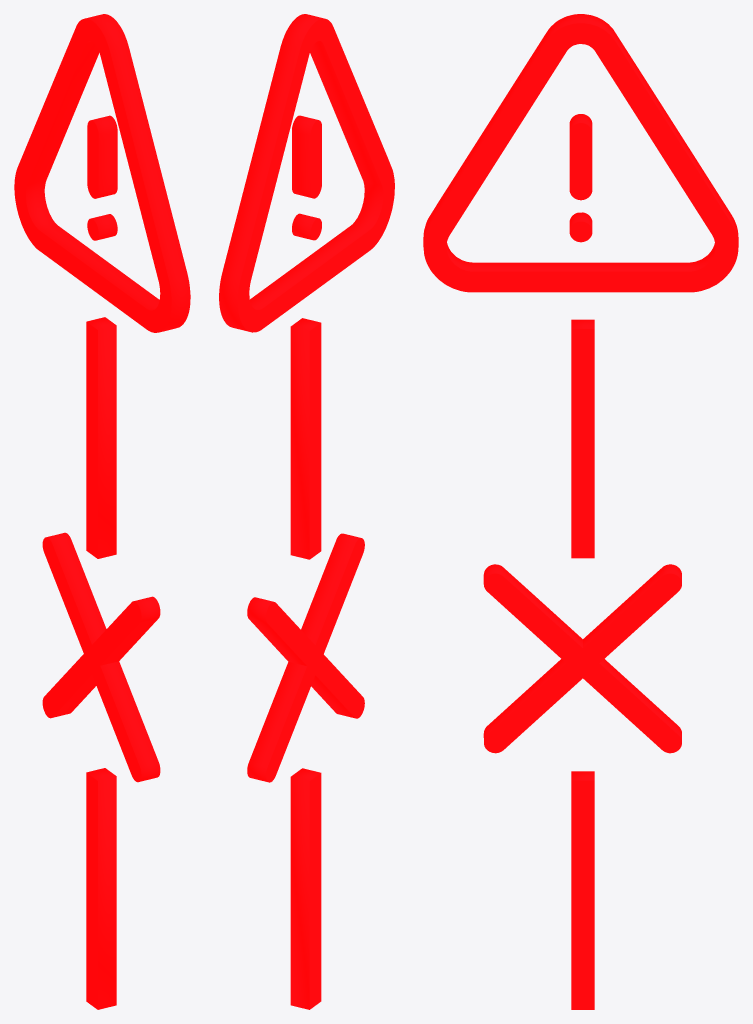
The model's file is status-not-connected-test.glb.
The picture shows the model from 3 angles, left to right: view 1: azimuth 30°, elevation 25°; view 2: azimuth 150°, elevation 25°; view 3: azimuth 270°, elevation 25°; orthographic projection.
Parts seen in each view (by area): view 1: Curve, Curve.004, Curve.003, Curve.005, Curve.006, Curve.001, Curve.002; view 2: Curve, Curve.003, Curve.004, Curve.006, Curve.005, Curve.001, Curve.002; view 3: Curve, Curve.005, Curve.006, Curve.003, Curve.004, Curve.001.
Part boxes in pixels (x1=…): Curve: x1=14, y1=14, x2=190, y2=332; Curve.004: x1=86, y1=768, x2=116, y2=1009; Curve.003: x1=86, y1=317, x2=116, y2=558; Curve.005: x1=42, y1=532, x2=160, y2=782; Curve.006: x1=42, y1=596, x2=160, y2=718; Curve.001: x1=87, y1=115, x2=117, y2=198; Curve.002: x1=87, y1=214, x2=117, y2=240; Curve: x1=219, y1=14, x2=394, y2=332; Curve.003: x1=290, y1=318, x2=321, y2=559; Curve.004: x1=290, y1=768, x2=321, y2=1009; Curve.006: x1=247, y1=533, x2=364, y2=782; Curve.005: x1=247, y1=597, x2=364, y2=718; Curve.001: x1=292, y1=115, x2=321, y2=198; Curve.002: x1=292, y1=213, x2=321, y2=240; Curve: x1=423, y1=14, x2=738, y2=292; Curve.005: x1=483, y1=564, x2=681, y2=753; Curve.006: x1=483, y1=564, x2=681, y2=753; Curve.003: x1=571, y1=319, x2=594, y2=558; Curve.004: x1=571, y1=771, x2=594, y2=1009; Curve.001: x1=569, y1=114, x2=592, y2=200.
Size of the model in its own units: 0.02 by 0.9946 by 0.2878.
